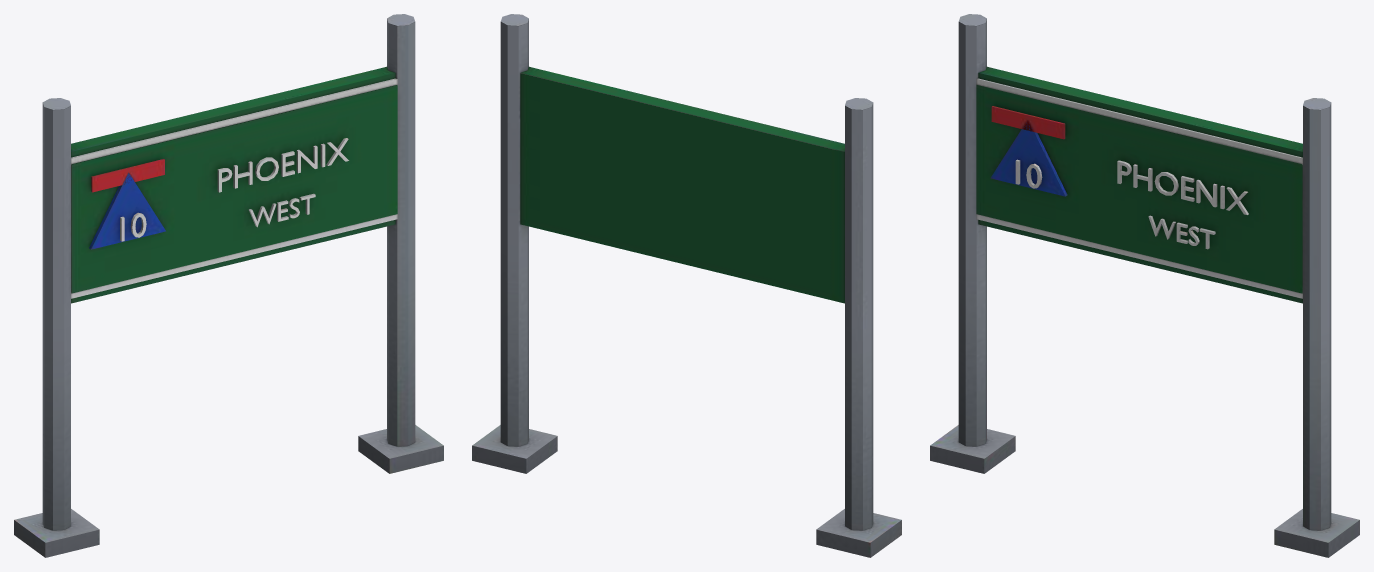
The model's file is cartel_ruta.glb.
3 renders of one model, left to right at view 1: azimuth 30°, elevation 25°; view 2: azimuth 150°, elevation 25°; view 3: azimuth 330°, elevation 25°, orthographic.
Visible parts, largest first — view 1: cartel_ruta; view 2: cartel_ruta; view 3: cartel_ruta.
Boxes of the visible parts, x1,y1,x2,y2 form: cartel_ruta: (14, 14, 443, 557); cartel_ruta: (472, 14, 901, 557); cartel_ruta: (930, 14, 1359, 557).
Bounding box in the file's own units: 2.2 × 2.3 × 0.3.
Materials: 1 (1 with a texture image).
